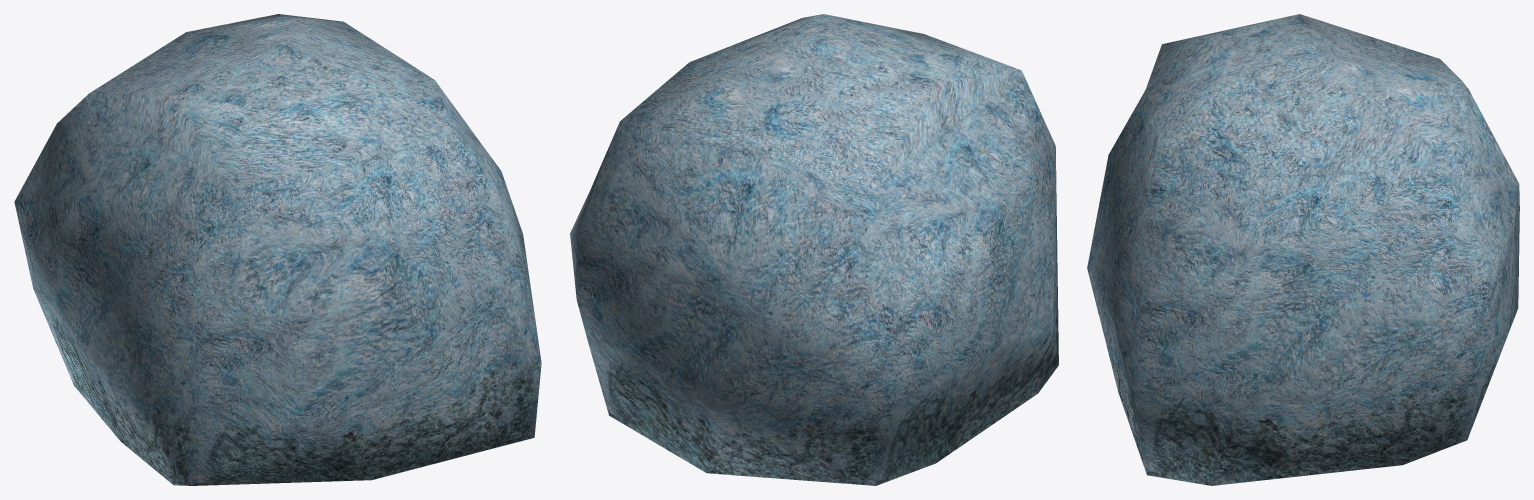
File: thm_all_cavewall_ice_a1_l2.fbx
The picture shows the model from 3 angles, left to right: view 1: azimuth 30°, elevation 25°; view 2: azimuth 150°, elevation 25°; view 3: azimuth 270°, elevation 25°; orthographic projection. The views are drawn at different scales.
Parts seen in each view (by area): view 1: mesh_node; view 2: mesh_node; view 3: mesh_node.
Part boxes in pixels (box(x1,y1,x2,y2)): mesh_node: box(14, 14, 541, 485); mesh_node: box(570, 14, 1058, 485); mesh_node: box(1087, 14, 1519, 485).
Size of the model in its own units: 10.81 by 10.79 by 10.77.
